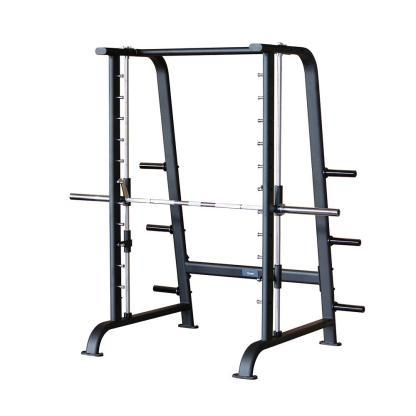smith machine: (69, 39, 366, 380)
